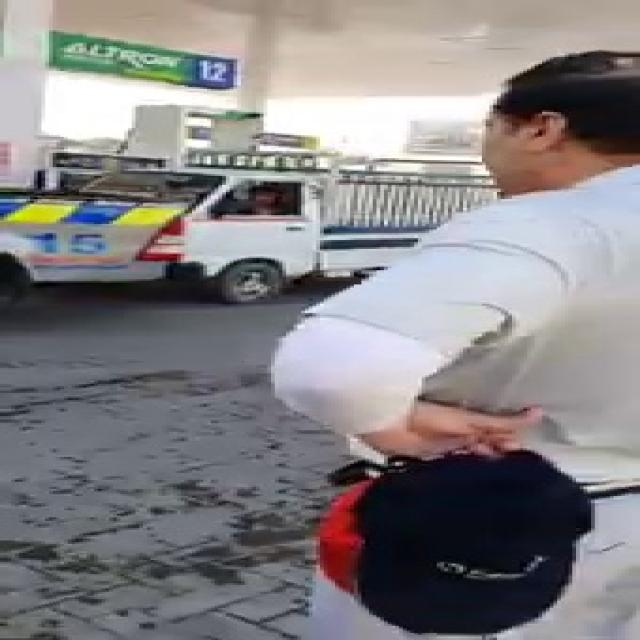police: (0, 172, 196, 320)
